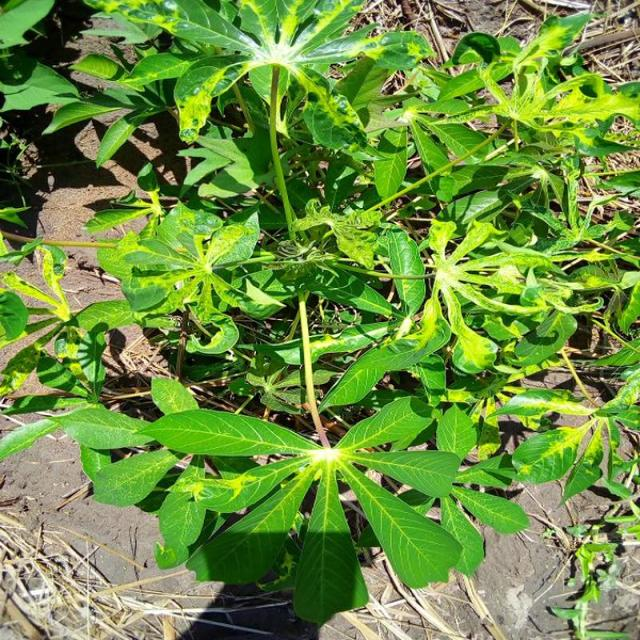cassava leaf: (0, 1, 638, 627)
